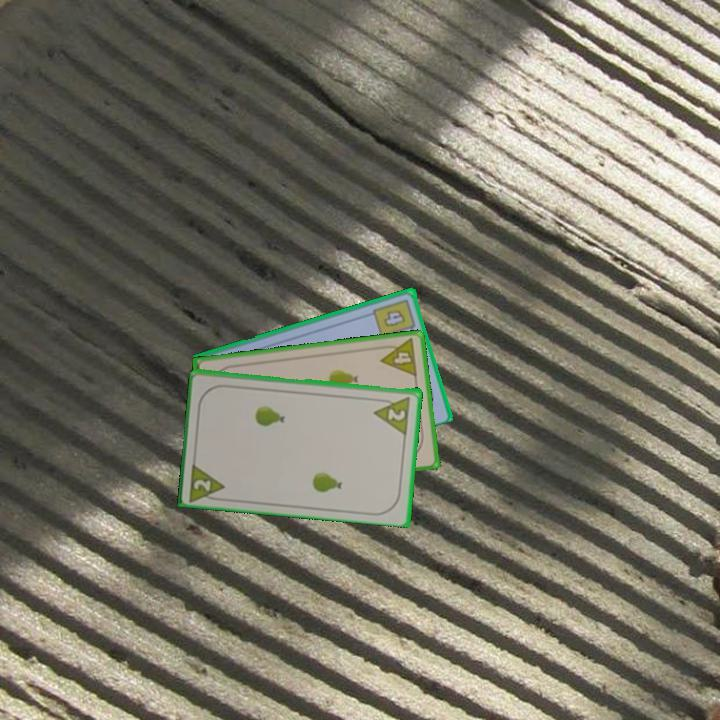2p: (186, 458, 228, 503), (371, 393, 413, 436)
4b: (370, 295, 419, 339)
4p: (376, 335, 420, 379)
